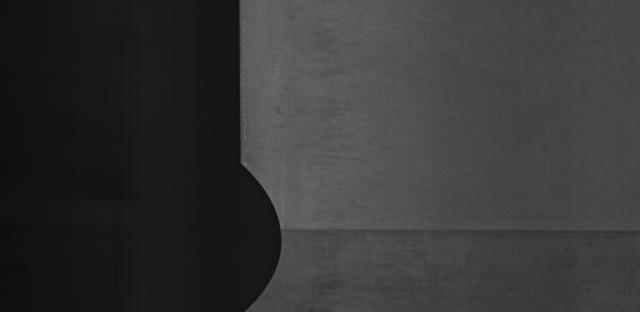crescent_gap: (208, 149, 302, 312)
welding_line: (267, 222, 640, 250)
